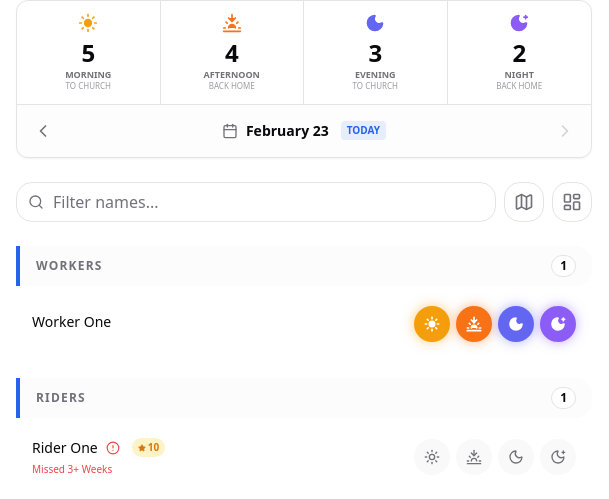
Test: BusLog Component › toggles attendance when clicked
The image size is (609, 499).
Expected: the text "Rider One" is shown, [32, 438, 98, 458]
Step 1. Click the button named "Morning (To Church) shift" in the row of "Worker One" → (432, 324), box [414, 306, 450, 342]
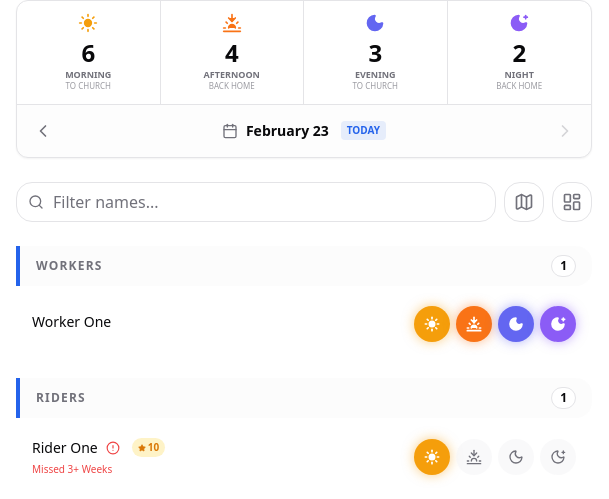
Expected: the text "6" is shown, [81, 37, 95, 69]
